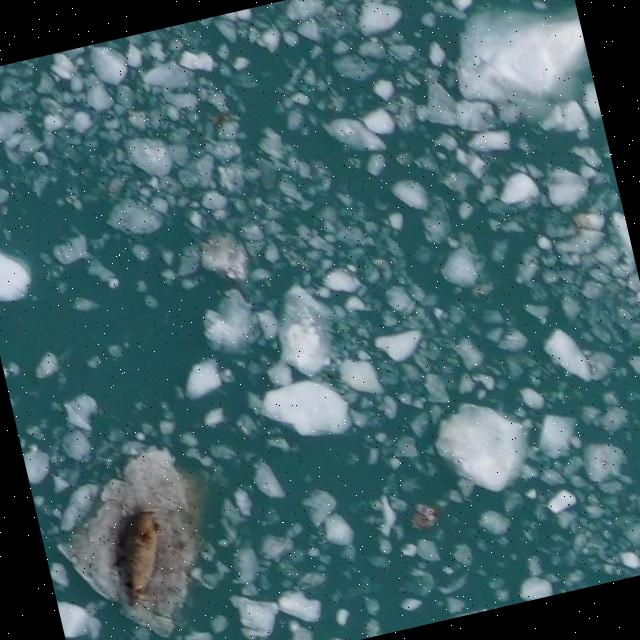seal: (116, 511, 158, 608)
